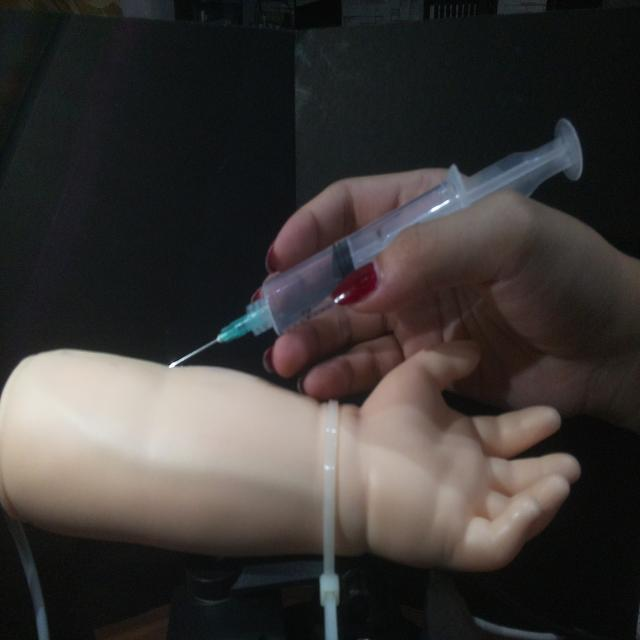23deg: (165, 113, 586, 371)
